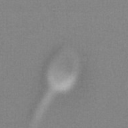normal: (25, 89, 56, 128)
